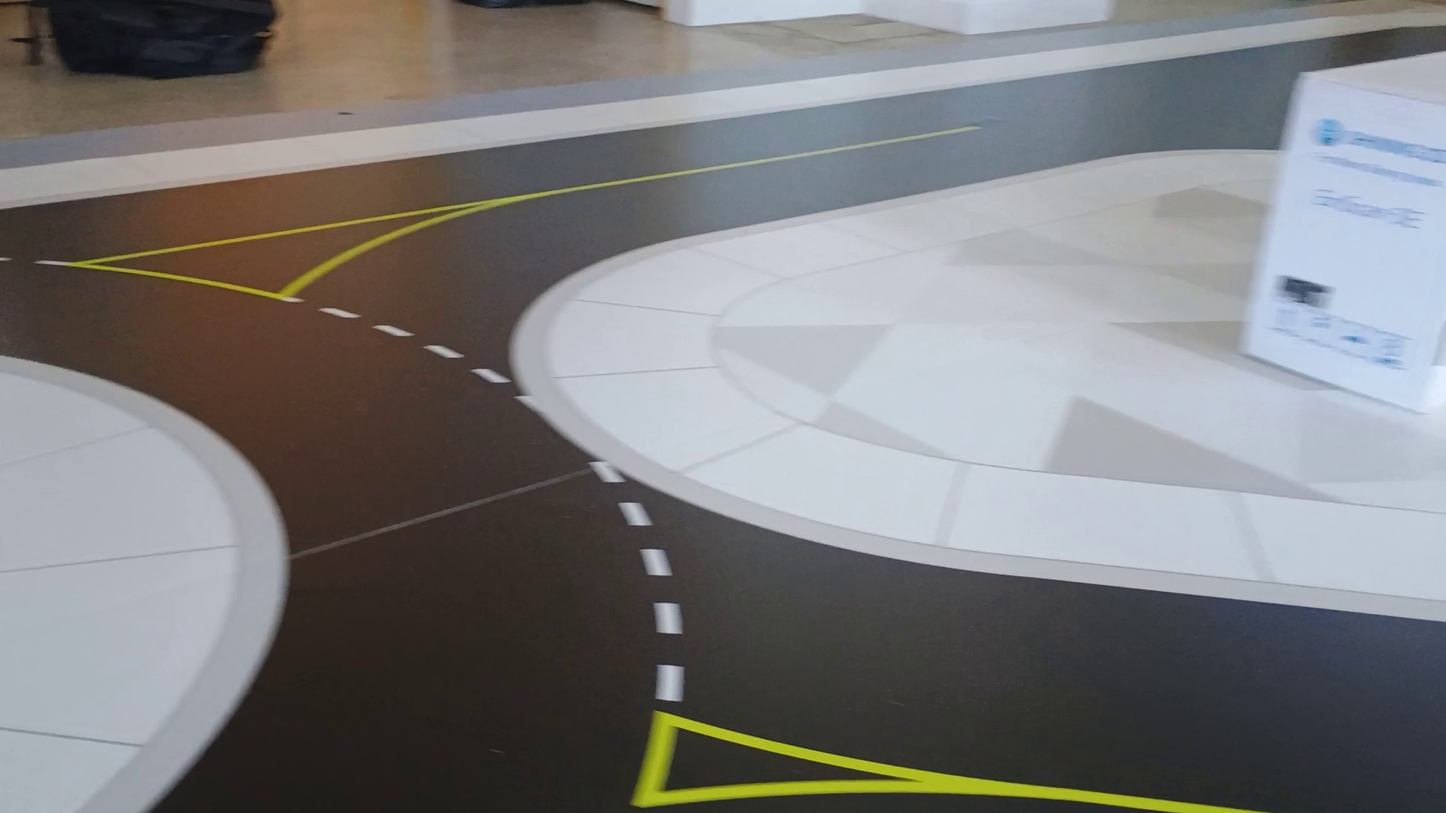Dashed: (657, 665, 683, 701), (654, 602, 682, 634), (642, 550, 671, 574), (620, 503, 651, 525), (592, 461, 624, 481), (471, 368, 510, 382), (515, 395, 541, 413), (374, 325, 413, 336), (426, 346, 462, 357), (319, 308, 358, 317), (36, 260, 69, 264), (281, 297, 303, 302), (0, 256, 11, 261)
Solid: (59, 125, 978, 300), (631, 711, 1261, 812)
Street: (0, 27, 1445, 812)
